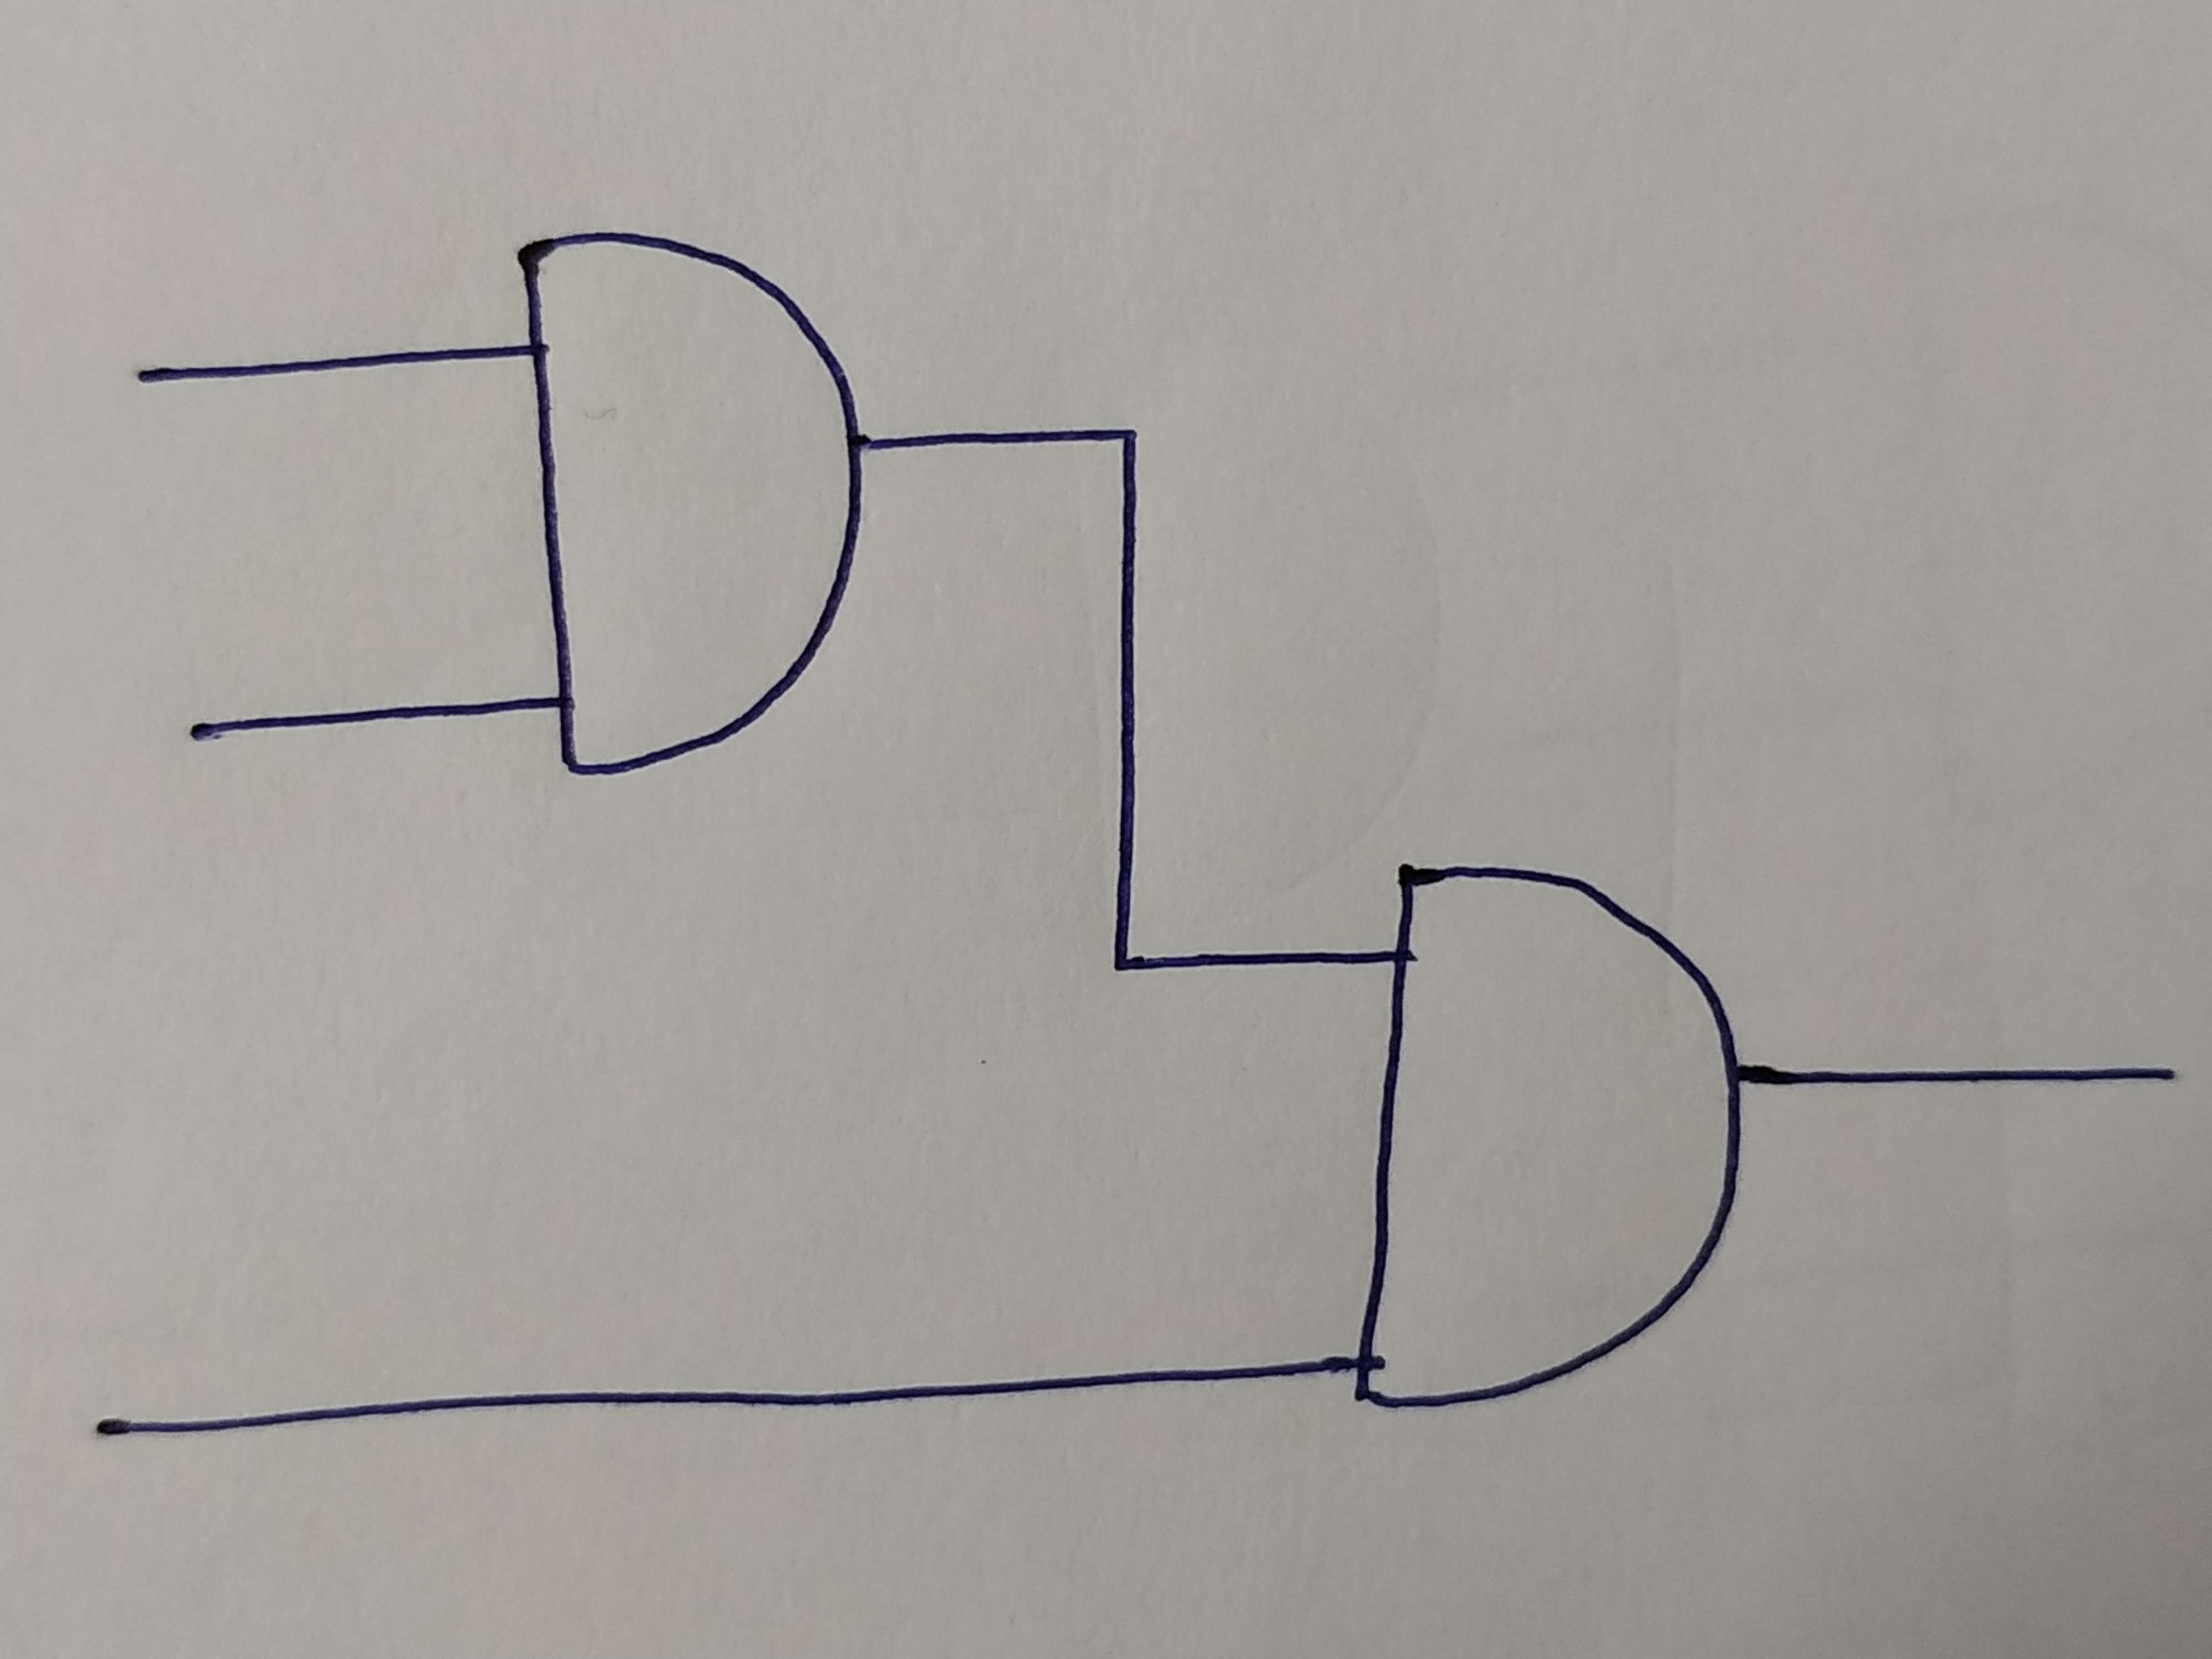and: (1357, 870, 1740, 1408), (516, 234, 864, 770)
